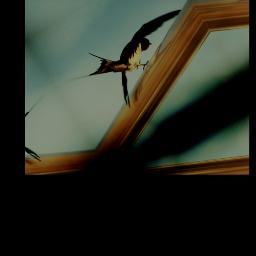Swallow: (59, 0, 214, 127)
